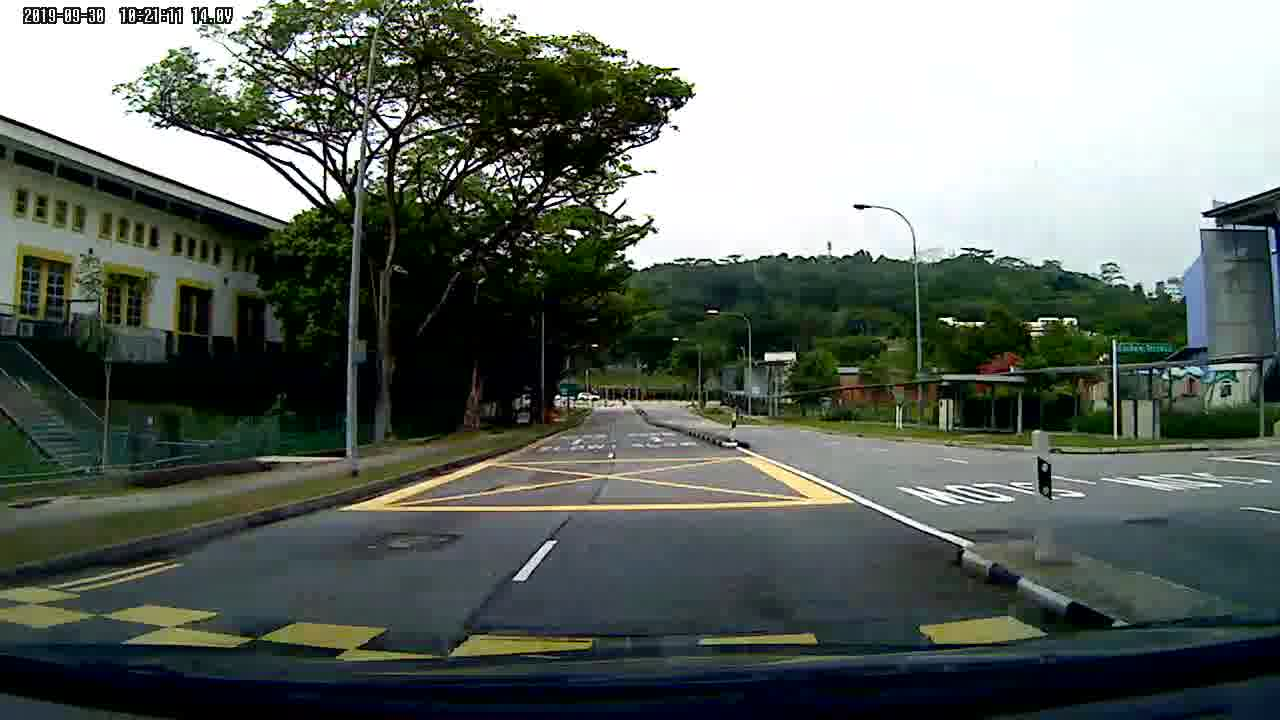car: (577, 390, 601, 401)
